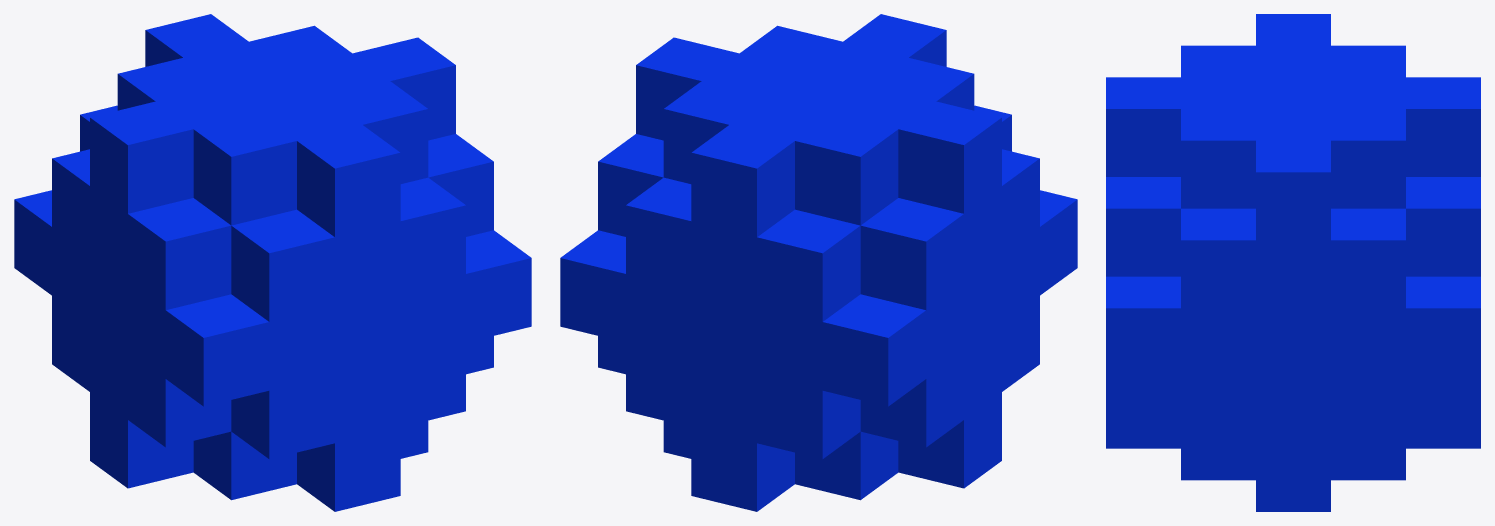
Rendered from Pickable3-0.obj.
3 views of the same model, side by side, from view 1: azimuth 30°, elevation 25°; view 2: azimuth 150°, elevation 25°; view 3: azimuth 270°, elevation 25° (orthographic).
Bounding box in the file's own units: 0.5 × 0.5 × 0.5.
1 material, 1 textured.
